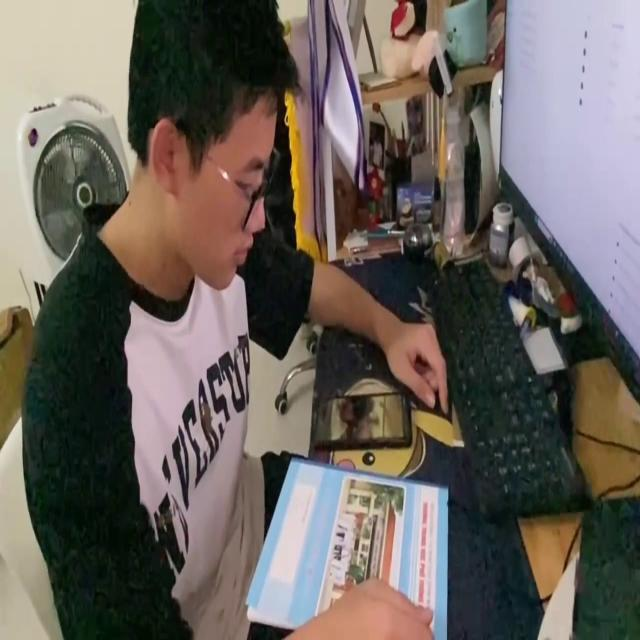book: (238, 454, 449, 640)
laptop: (499, 0, 640, 416)
phone: (308, 384, 414, 450)
student: (19, 0, 447, 640)
